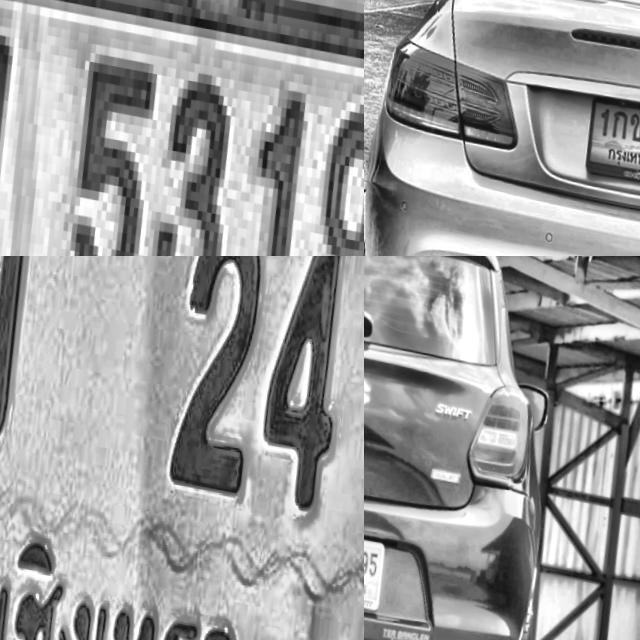license-plate: (0, 256, 364, 640), (0, 0, 364, 256), (564, 70, 640, 207), (364, 517, 383, 613)
